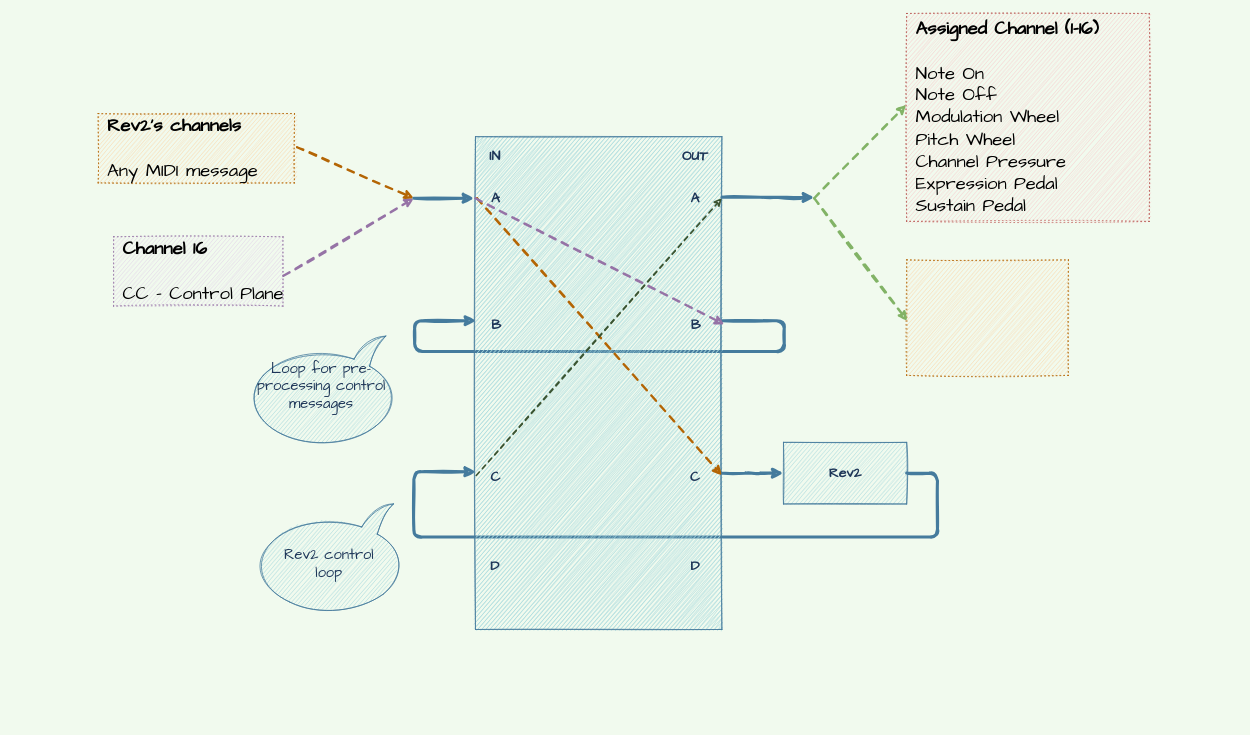
The diagram is 1250 pixels wide and 735 high, and some of its shapes have lost their labels. Here are the shapes that lost their labels. From the top down, the box of each, then its label:
(906, 259, 1068, 375): Rev2's channels CC (NRPN) Clock Program Change
(475, 136, 722, 629): Midihub
